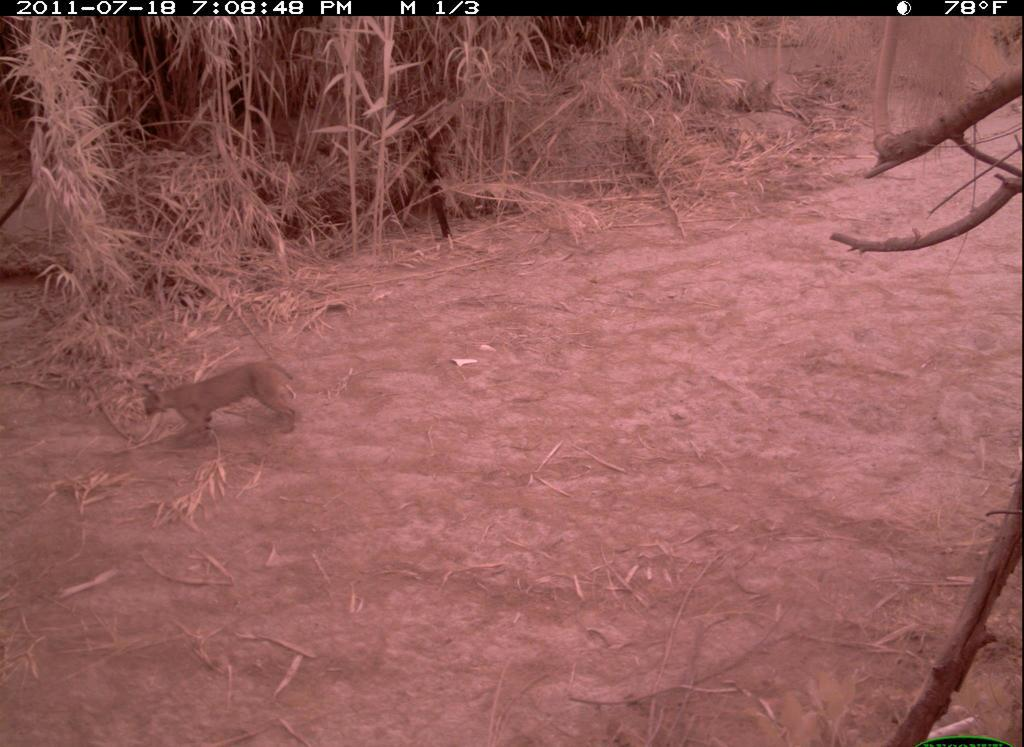bobcat: (125, 356, 313, 459)
